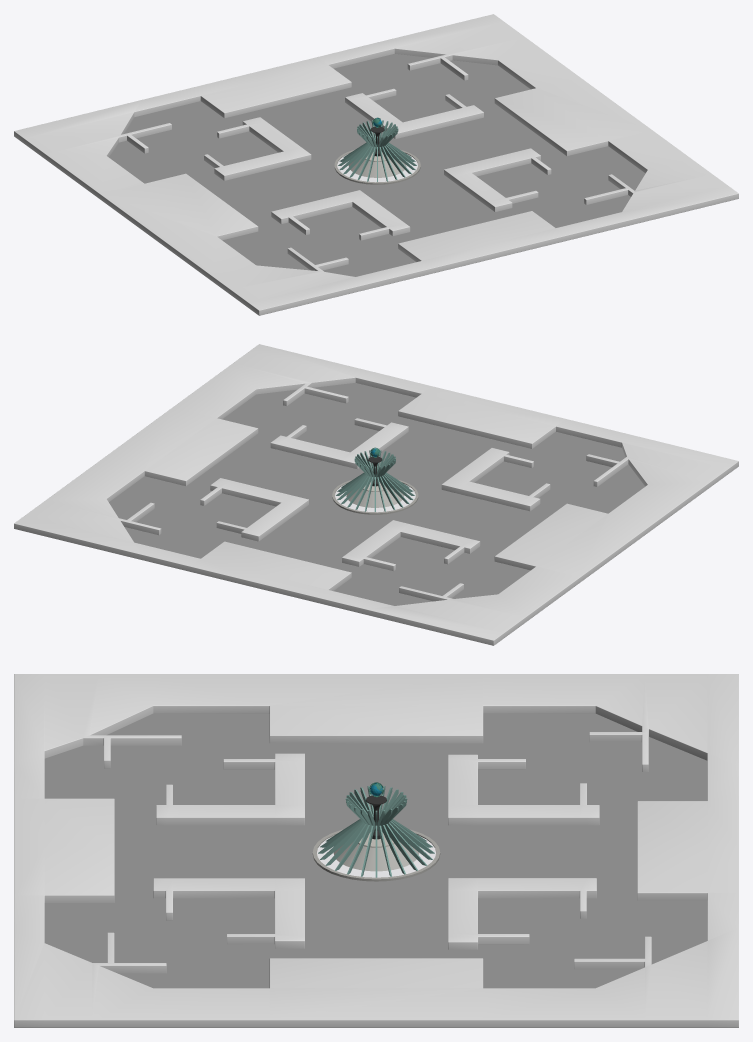
The model's file is Level_04_Walls_Clean.FBX.
3 views of the same model, one above another, from view 1: azimuth 30°, elevation 25°; view 2: azimuth 150°, elevation 25°; view 3: azimuth 270°, elevation 25° (orthographic). The views are drawn at different scales.
Visible parts, largest first — view 1: Walls, Floor, Inner_Walls, Fountain; view 2: Walls, Floor, Inner_Walls, Fountain; view 3: Walls, Floor, Inner_Walls, Fountain.
Boxes of the visible parts, x1=… form: Walls: x1=14, y1=14, x2=738, y2=315; Floor: x1=109, y1=53, x2=645, y2=276; Inner_Walls: x1=204, y1=88, x2=551, y2=240; Fountain: x1=334, y1=117, x2=420, y2=184; Walls: x1=14, y1=344, x2=738, y2=645; Floor: x1=109, y1=383, x2=644, y2=605; Inner_Walls: x1=200, y1=418, x2=550, y2=571; Fountain: x1=332, y1=447, x2=418, y2=514; Walls: x1=14, y1=674, x2=738, y2=1027; Floor: x1=44, y1=713, x2=707, y2=988; Inner_Walls: x1=153, y1=753, x2=599, y2=949; Fountain: x1=312, y1=782, x2=440, y2=881.
Size of the model in its own units: 26500 by 2597 by 23460.
3 materials, 1 textured.
